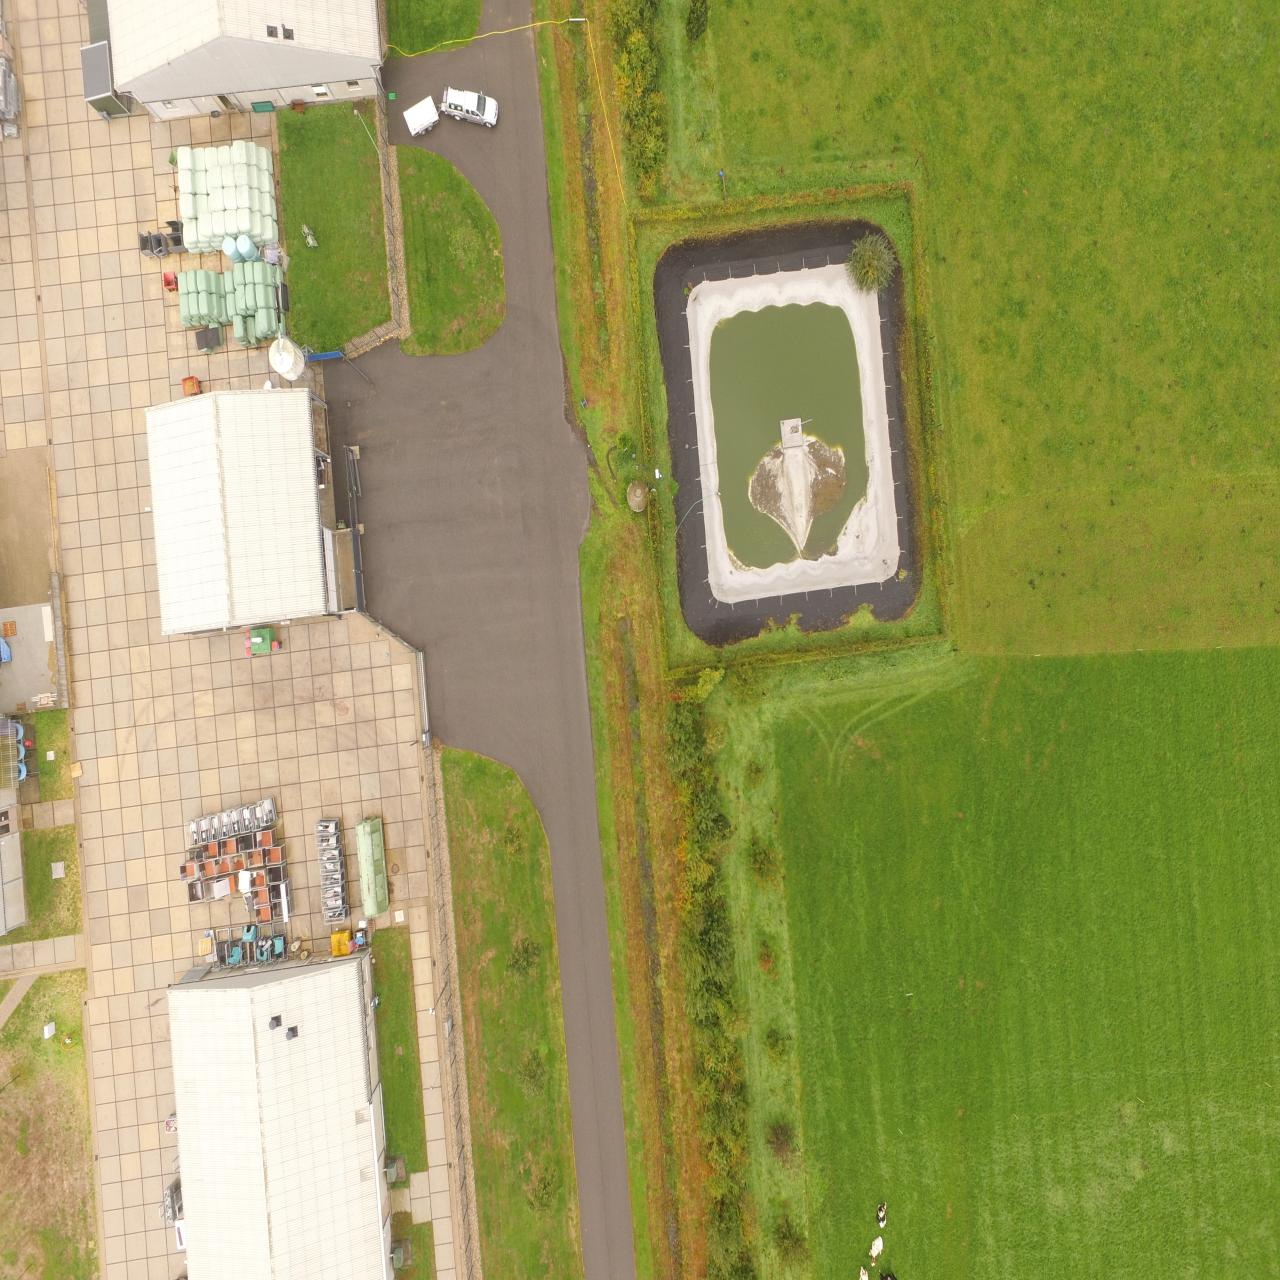cow: (868, 1235, 883, 1267), (876, 1201, 887, 1229), (878, 1268, 897, 1280), (859, 1266, 869, 1280)
